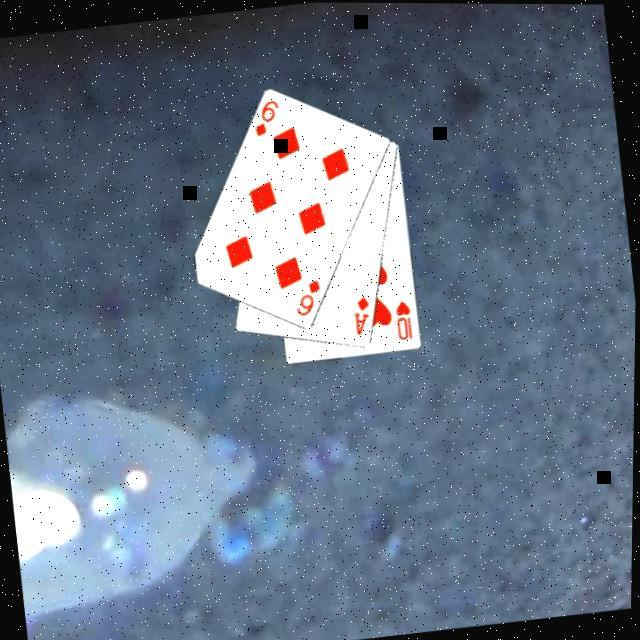10H: (394, 294, 419, 340)
6D: (291, 273, 329, 317), (250, 94, 286, 136)
AD: (350, 290, 378, 336)
